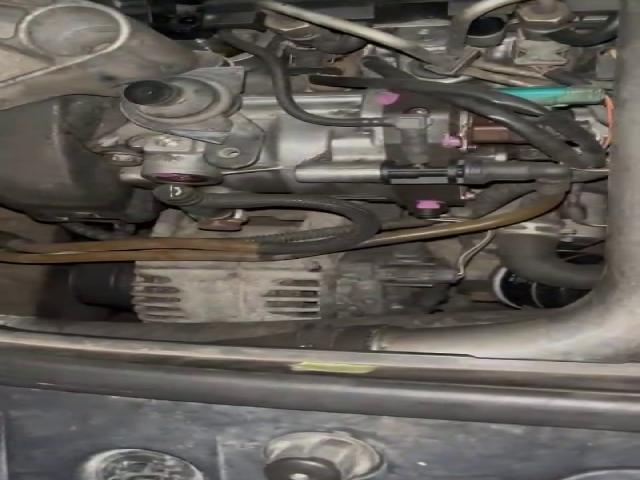alternator: (130, 242, 466, 325)
high_pressure_pump: (117, 84, 512, 218)
